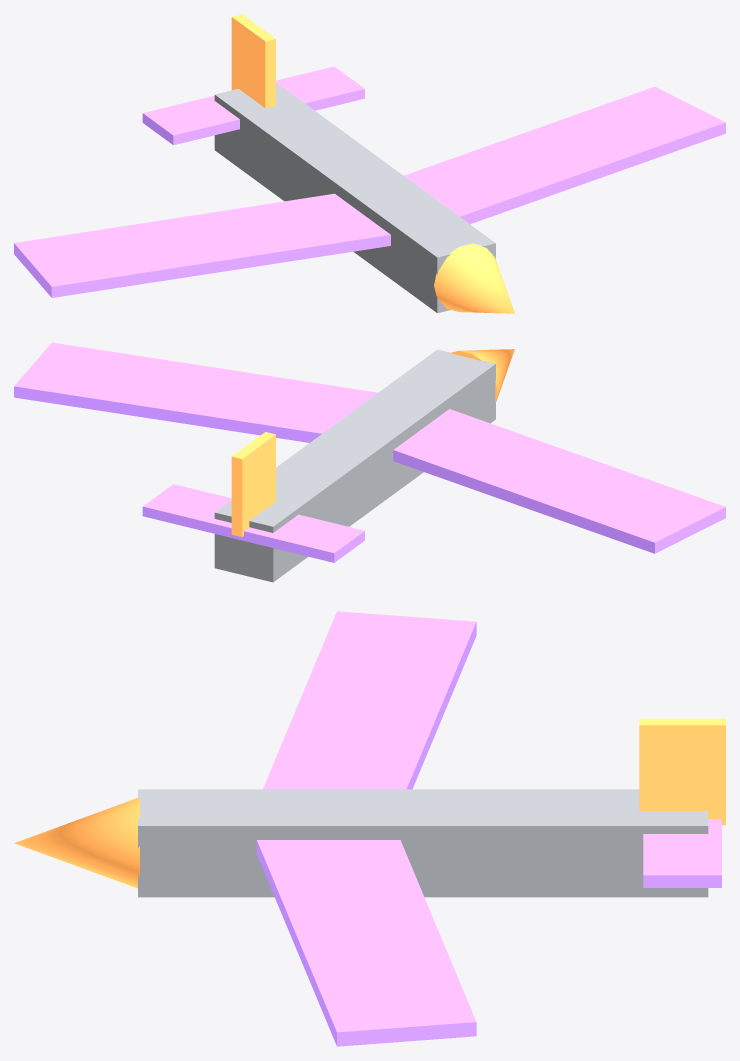
The model's file is uav_fixed_wing.glb.
3 views of the same model, one above another, from view 1: azimuth 30°, elevation 25°; view 2: azimuth 150°, elevation 25°; view 3: azimuth 270°, elevation 25° (orthographic). The views are drawn at different scales.
Parts seen in each view (by area): view 1: UAV_FixedWing; view 2: UAV_FixedWing; view 3: UAV_FixedWing.
Boxes of the visible parts, x1,y1,x2,y2 form: UAV_FixedWing: [14, 14, 725, 313]; UAV_FixedWing: [14, 342, 725, 582]; UAV_FixedWing: [14, 611, 725, 1046].
Bounding box in the file's own units: 2.53 × 0.457 × 1.81.
